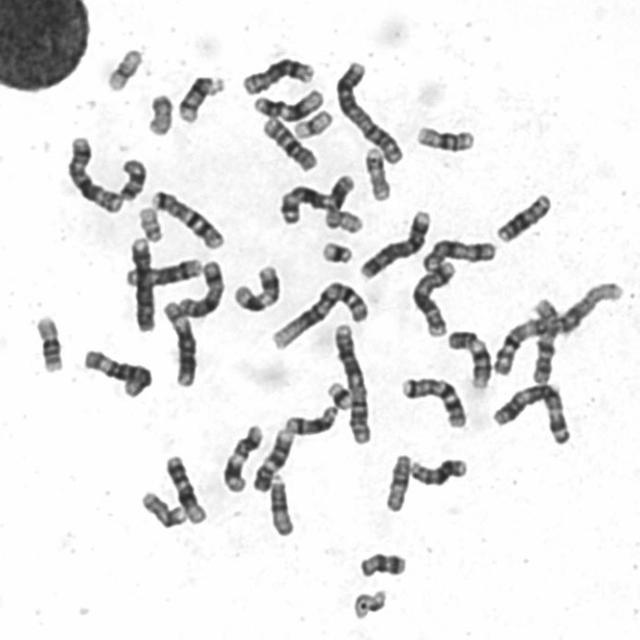A1: (492, 280, 624, 376), (270, 279, 370, 353)
A2: (332, 57, 404, 166), (332, 322, 373, 446)
A3: (492, 383, 571, 448), (278, 173, 355, 225)
B4: (359, 210, 431, 280), (126, 236, 157, 334)
B5: (65, 136, 123, 214), (410, 260, 458, 338)
C10: (261, 116, 320, 174), (530, 296, 559, 385)
C11: (222, 424, 266, 494), (233, 264, 280, 314)
C12: (164, 455, 207, 525), (252, 90, 324, 122)
C6: (83, 348, 153, 398), (161, 300, 199, 389)
C7: (152, 191, 226, 250), (400, 374, 468, 430)
C8: (242, 58, 316, 97), (125, 257, 203, 289)
C9: (446, 328, 492, 389), (253, 426, 295, 492)
D13: (495, 193, 553, 246), (409, 456, 469, 489)
D14: (178, 73, 225, 124), (284, 404, 339, 437)
D15: (268, 472, 296, 538), (384, 451, 412, 513)
E16: (33, 316, 66, 373), (416, 124, 476, 154)
E17: (139, 489, 189, 529), (364, 145, 392, 202)
E18: (358, 550, 408, 580), (120, 158, 149, 202)
F19: (106, 48, 144, 93), (294, 108, 336, 140)
F20: (144, 92, 176, 140), (324, 208, 364, 235)
G21: (317, 240, 353, 266), (325, 380, 352, 411)
G22: (351, 589, 388, 621), (137, 206, 163, 242)
X: (176, 260, 225, 317), (422, 238, 498, 273)
